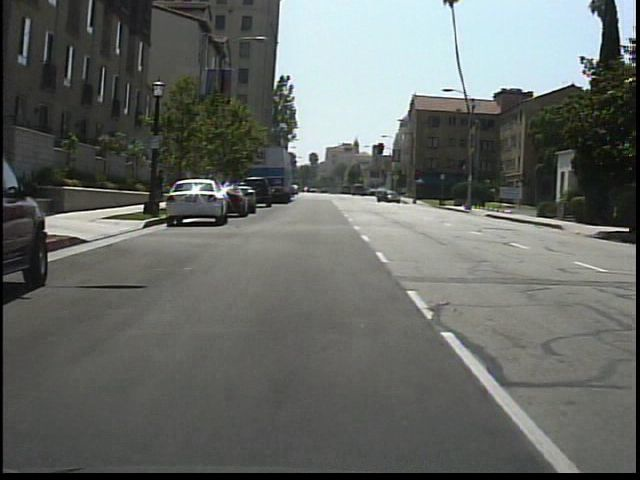person: (153, 166, 172, 213)
